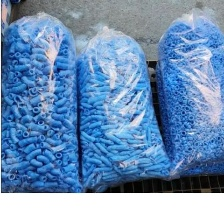snack: (69, 16, 182, 190), (0, 4, 83, 191), (148, 0, 223, 185)
